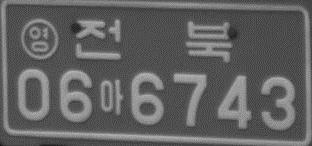0: (15, 67, 51, 122)
3: (260, 75, 296, 131)
4: (216, 74, 252, 128)
6: (58, 69, 94, 123), (129, 71, 164, 126)
7: (173, 72, 208, 128)
아: (98, 78, 124, 116)
영: (20, 17, 59, 60)
전북_D: (73, 17, 232, 63)
